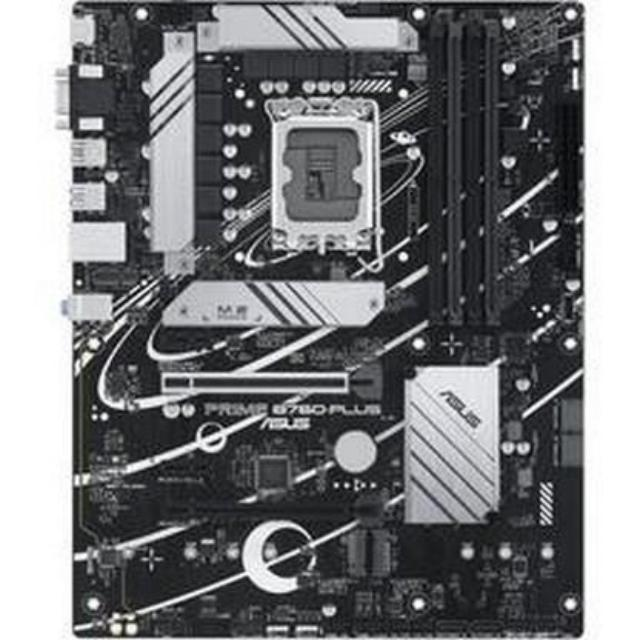Mainboard: (50, 0, 590, 640)
